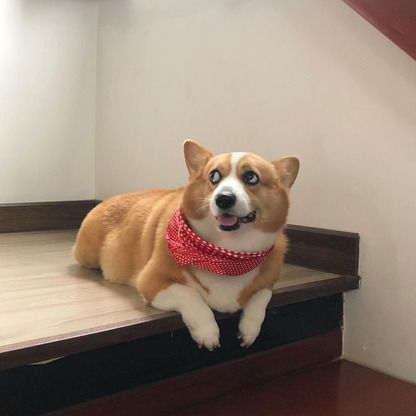Corgi: (61, 143, 323, 337)
